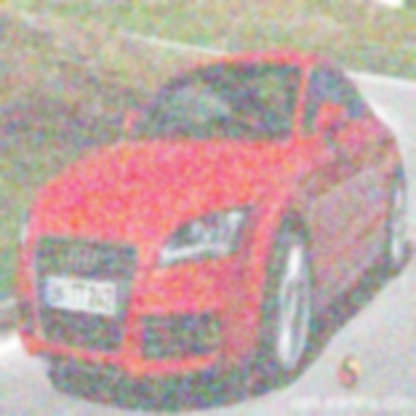Vehicle: (16, 48, 407, 381)
